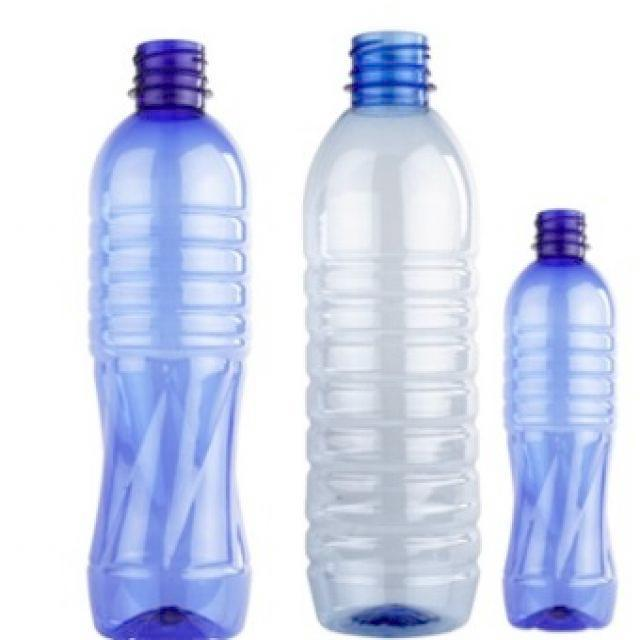bottle: (305, 29, 478, 638), (87, 39, 253, 640), (501, 208, 618, 630)
